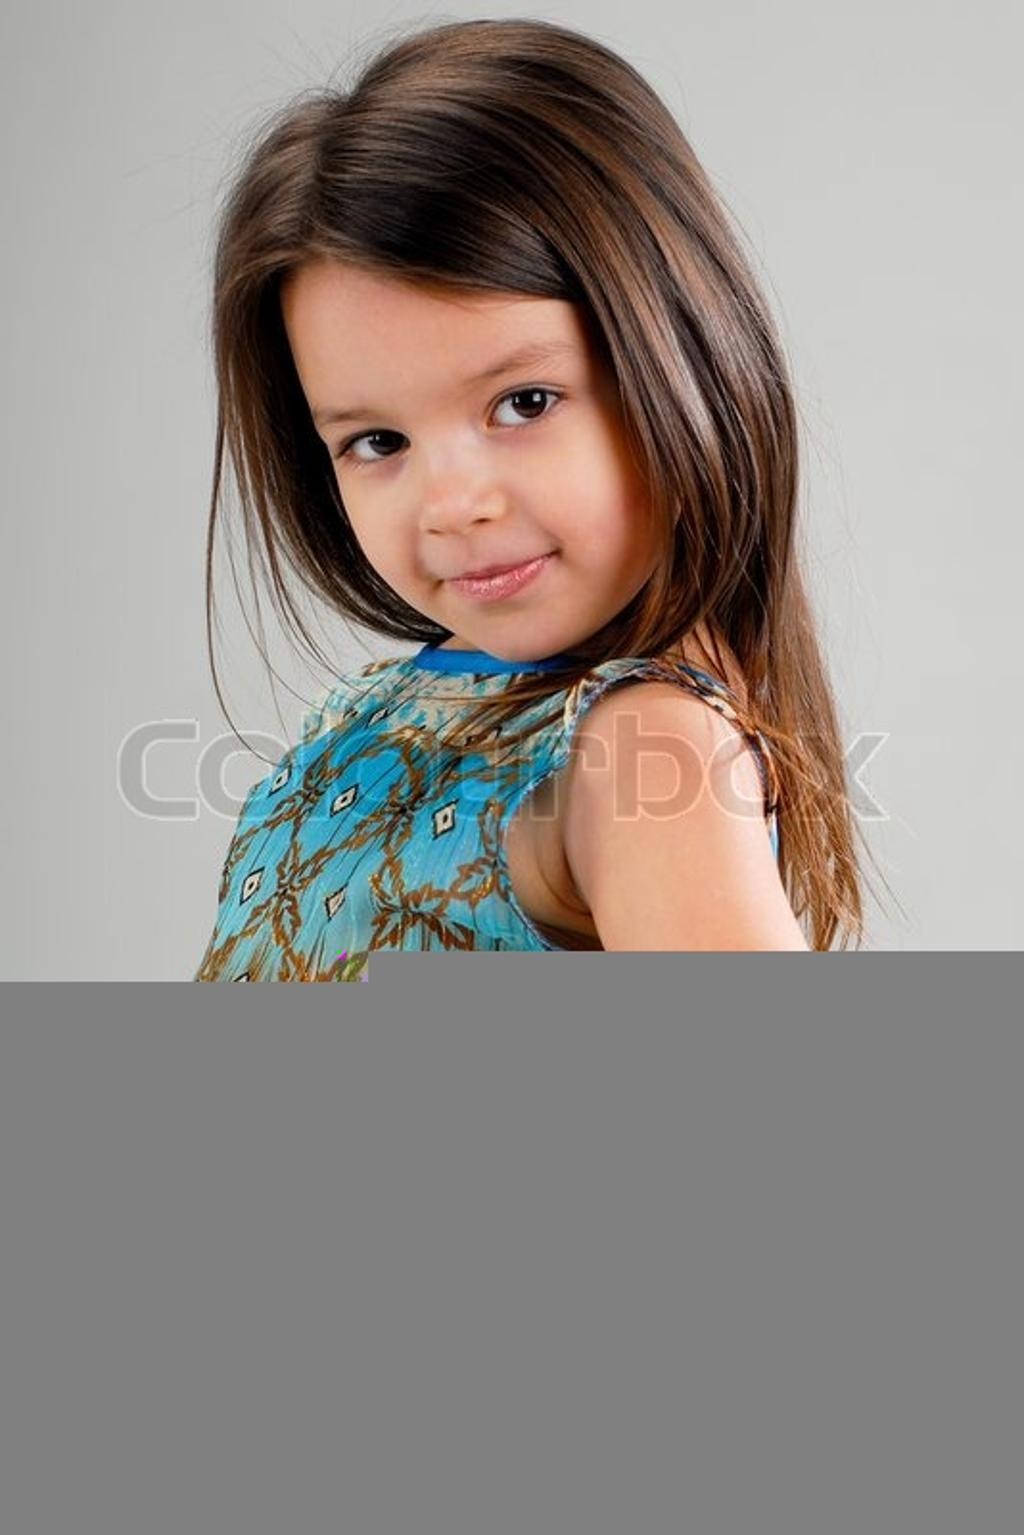face: (281, 219, 673, 656)
